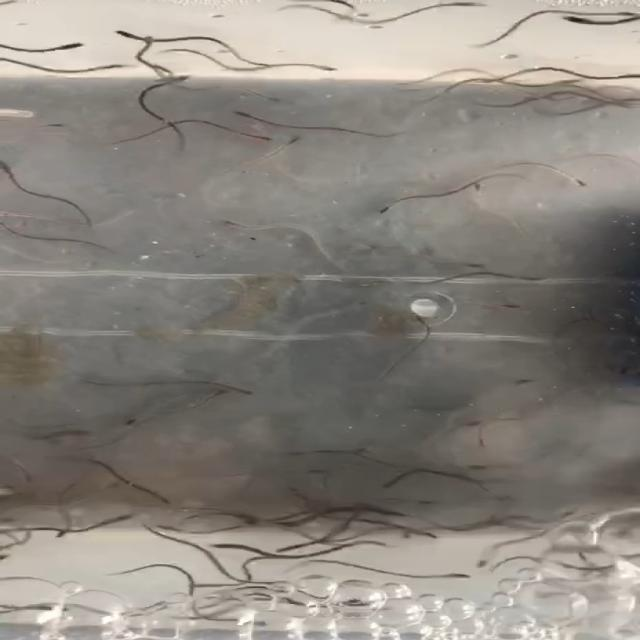active_glass_eel: (389, 520, 447, 550), (206, 380, 272, 404), (474, 296, 534, 322), (291, 55, 349, 79), (207, 215, 271, 236), (104, 406, 148, 435), (361, 502, 410, 527), (555, 172, 606, 196), (435, 417, 490, 438), (227, 615, 282, 636), (219, 504, 261, 530), (535, 10, 603, 26), (29, 118, 82, 138), (200, 536, 246, 559), (471, 548, 511, 573), (157, 68, 202, 90), (446, 0, 504, 17), (390, 310, 438, 330), (435, 566, 475, 590), (506, 270, 558, 288), (149, 520, 199, 538), (256, 88, 308, 105), (454, 178, 498, 198), (544, 504, 580, 528), (49, 36, 96, 54), (348, 441, 380, 467), (227, 107, 270, 126), (277, 129, 311, 153), (456, 250, 490, 274), (246, 128, 282, 150), (127, 34, 191, 46), (104, 25, 144, 44), (0, 158, 32, 181), (373, 473, 404, 496), (468, 434, 505, 453), (365, 202, 404, 219), (609, 3, 640, 24), (85, 60, 128, 74), (466, 458, 496, 478), (49, 523, 80, 542), (266, 544, 318, 555), (110, 510, 142, 525), (609, 69, 640, 80), (552, 73, 578, 85), (604, 94, 640, 102)
